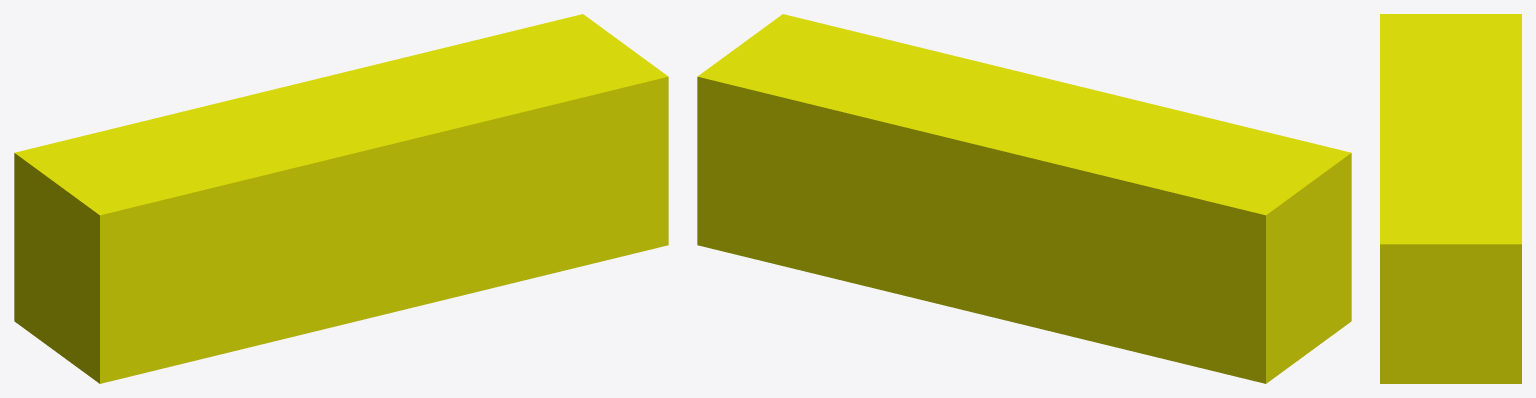
Rendered from bar_1.obj.
3 views of the same model, side by side, from view 1: azimuth 30°, elevation 25°; view 2: azimuth 150°, elevation 25°; view 3: azimuth 270°, elevation 25° (orthographic). The views are drawn at different scales.
Bounding box in the file's own units: 2 × 0.5666 × 0.5212.
